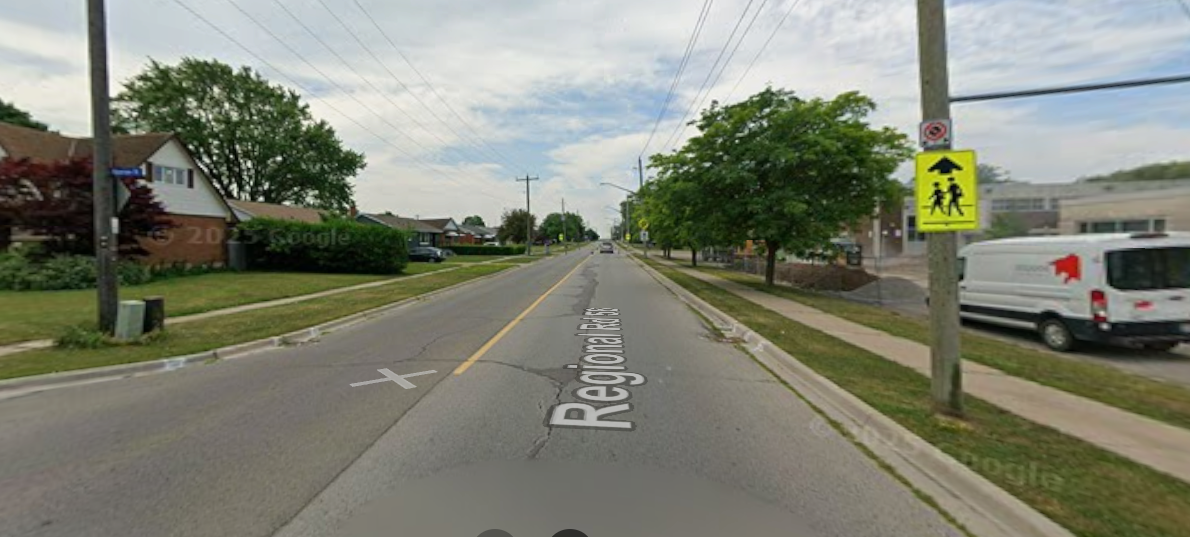cracks: (506, 363, 589, 468), (565, 270, 605, 320)
